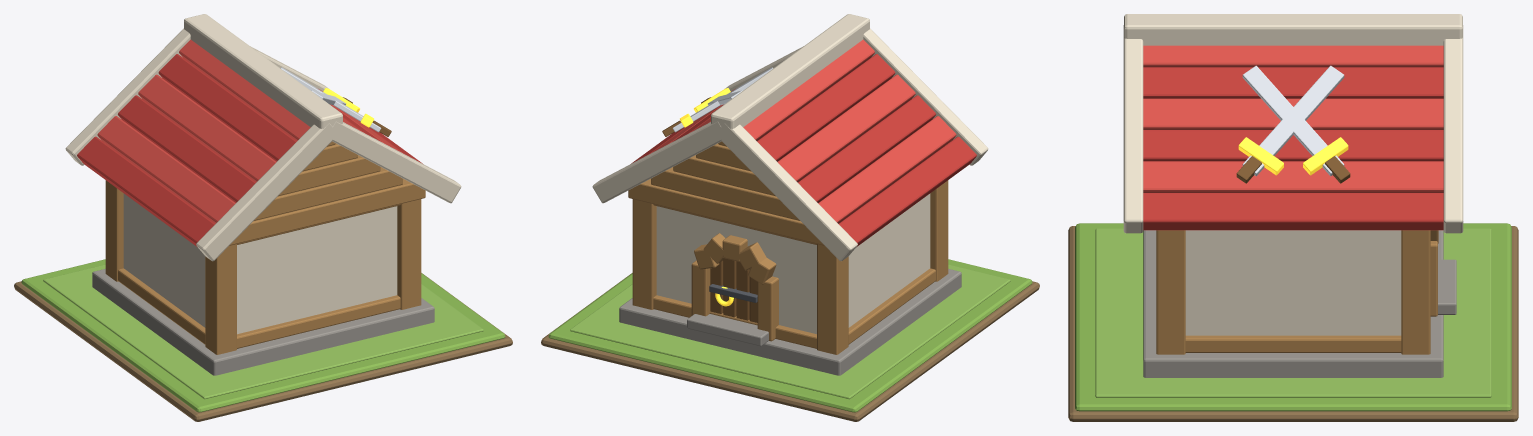
The model's file is barracks_lv1.glb.
The picture shows the model from 3 angles, left to right: view 1: azimuth 30°, elevation 25°; view 2: azimuth 150°, elevation 25°; view 3: azimuth 270°, elevation 25°; orthographic projection. The views are drawn at different scales.
Visible parts, largest first — view 1: PlasterCore, Base_Inner, Base_Grass, Foundation, Base_Dirt, RidgeBeam, RoofSlope_-1_5, Bargeboard_-1_-1, RoofSlope_-1_2, RoofSlope_-1_3, RoofSlope_-1_4, RoofSlope_-1_1 (+12 smaller); view 2: PlasterCore, Base_Inner, Base_Grass, Foundation, Base_Dirt, RidgeBeam, Bargeboard_1_-1, RoofSlope_-1_5, RoofSlope_-1_2, RoofSlope_-1_3, RoofSlope_-1_4, RoofSlope_-1_1 (+21 smaller); view 3: PlasterCore, Base_Inner, Base_Grass, RoofSlope_1_5, RidgeBeam, Foundation, RoofSlope_1_4, RoofSlope_1_2, RoofSlope_1_1, RoofSlope_1_3, Base_Dirt, RoofSlope_1_0 (+11 smaller).
Boxes of the visible parts, x1,y1,x2,y2 form: PlasterCore: [123, 193, 397, 334]; Base_Inner: [43, 264, 483, 399]; Base_Grass: [21, 259, 505, 412]; Foundation: [92, 269, 434, 375]; Base_Dirt: [14, 273, 512, 421]; RidgeBeam: [184, 14, 342, 128]; RoofSlope_-1_5: [77, 136, 214, 247]; Bargeboard_-1_-1: [196, 123, 337, 261]; RoofSlope_-1_2: [138, 74, 276, 182]; RoofSlope_-1_3: [118, 95, 255, 202]; RoofSlope_-1_4: [97, 116, 235, 223]; RoofSlope_-1_1: [158, 54, 296, 161]; PlasterCore: [656, 193, 930, 334]; Base_Inner: [570, 264, 1010, 399]; Base_Grass: [548, 259, 1032, 412]; Foundation: [619, 269, 961, 375]; Base_Dirt: [541, 273, 1039, 421]; RidgeBeam: [711, 14, 869, 128]; Bargeboard_1_-1: [716, 123, 857, 261]; RoofSlope_-1_5: [839, 136, 976, 247]; RoofSlope_-1_2: [777, 74, 915, 182]; RoofSlope_-1_3: [798, 95, 935, 202]; RoofSlope_-1_4: [818, 116, 956, 223]; RoofSlope_-1_1: [757, 54, 895, 161]; PlasterCore: [1185, 230, 1401, 335]; Base_Inner: [1095, 228, 1491, 397]; Base_Grass: [1075, 223, 1511, 411]; RoofSlope_1_5: [1143, 193, 1443, 230]; RidgeBeam: [1124, 14, 1462, 45]; Foundation: [1143, 230, 1443, 377]; RoofSlope_1_4: [1143, 161, 1443, 192]; RoofSlope_1_2: [1143, 98, 1443, 129]; RoofSlope_1_1: [1143, 67, 1443, 98]; RoofSlope_1_3: [1143, 130, 1443, 161]; Base_Dirt: [1068, 226, 1518, 421]; RoofSlope_1_0: [1143, 45, 1443, 67].
Bounding box in the file's own units: 2.76 × 2.09 × 2.76.
